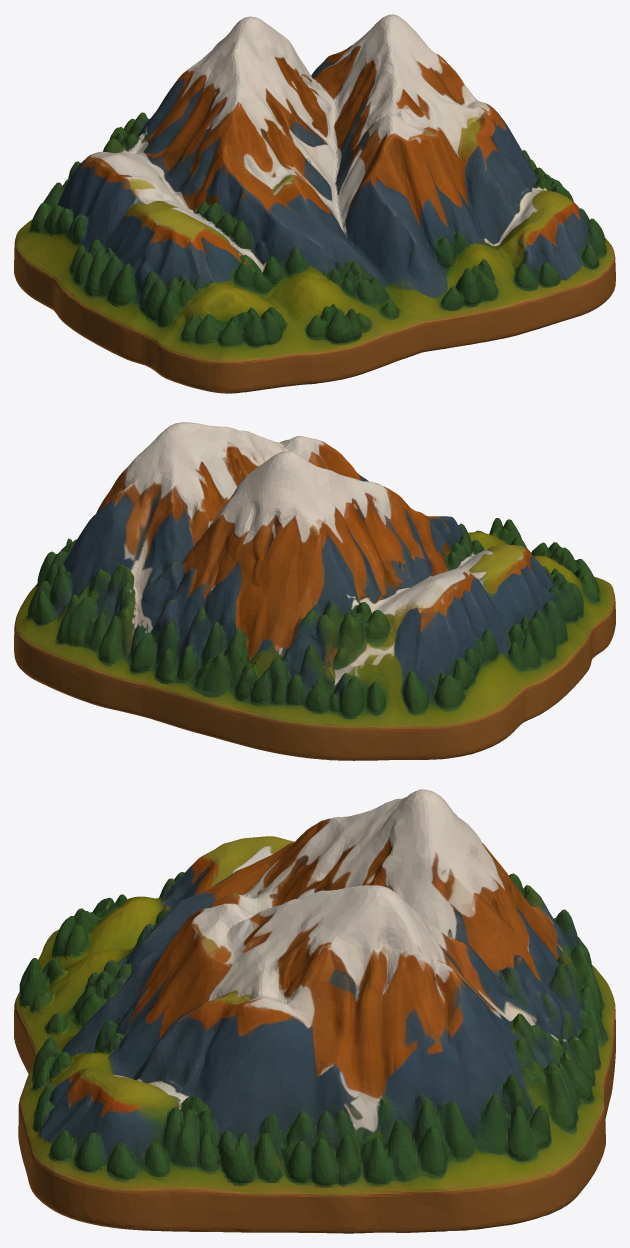
The model's file is bisalta.glb.
3 views of the same model, one above another, from view 1: azimuth 30°, elevation 25°; view 2: azimuth 150°, elevation 25°; view 3: azimuth 270°, elevation 25° (orthographic). The views are drawn at different scales.
Visible parts, largest first — view 1: textured_mesh.obj; view 2: textured_mesh.obj; view 3: textured_mesh.obj.
Part boxes in pixels (bbox=[...]): textured_mesh.obj: bbox=[14, 14, 615, 393]; textured_mesh.obj: bbox=[14, 422, 615, 760]; textured_mesh.obj: bbox=[14, 789, 615, 1233].
Bounding box in the file's own units: 1.99 × 0.924 × 1.73.
Materials: 1 (1 with a texture image).
